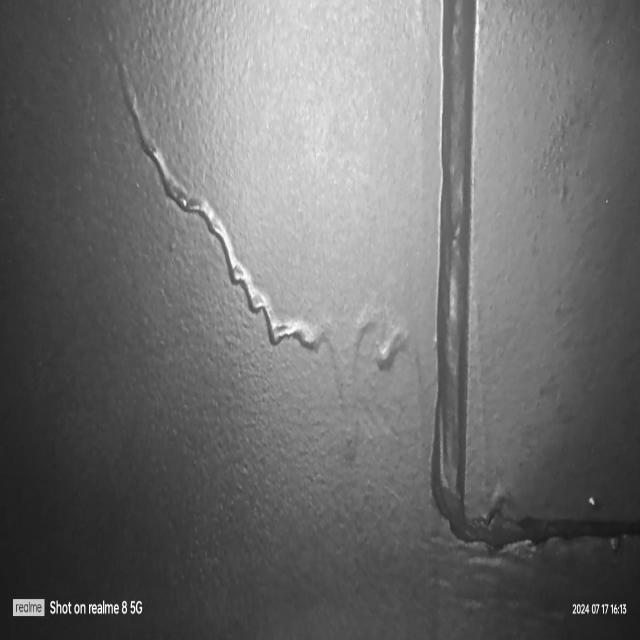paint drips: (105, 23, 431, 530), (578, 484, 605, 524), (608, 529, 628, 568)
